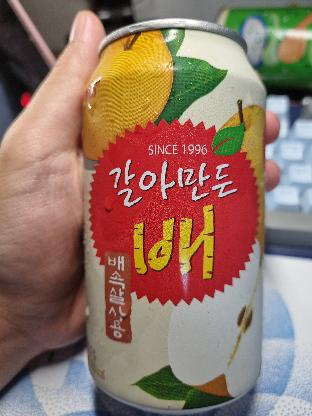Can: (70, 16, 264, 416)
